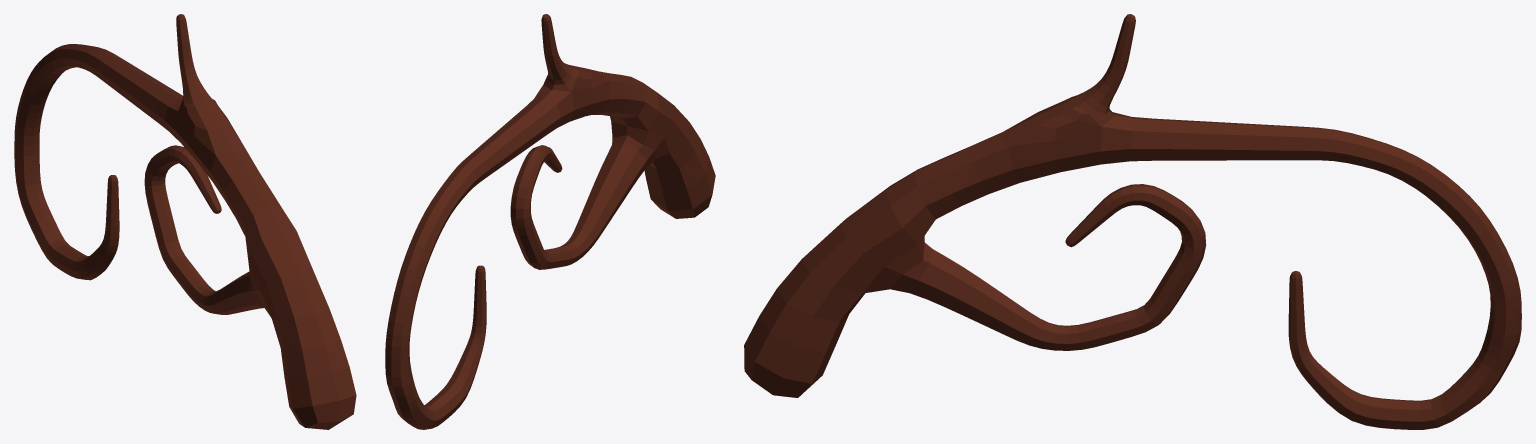
The model's file is little roots.fbx.
3 renders of one model, left to right at view 1: azimuth 30°, elevation 25°; view 2: azimuth 150°, elevation 25°; view 3: azimuth 270°, elevation 25°, orthographic. The views are drawn at different scales.
Visible parts, largest first — view 1: petite racine; view 2: petite racine; view 3: petite racine.
Part boxes in pixels (x1,y1,x2,y2): petite racine: (14, 14, 356, 429); petite racine: (385, 14, 715, 429); petite racine: (744, 14, 1521, 429).
Size of the model in its own units: 19.55 by 105 by 178.
